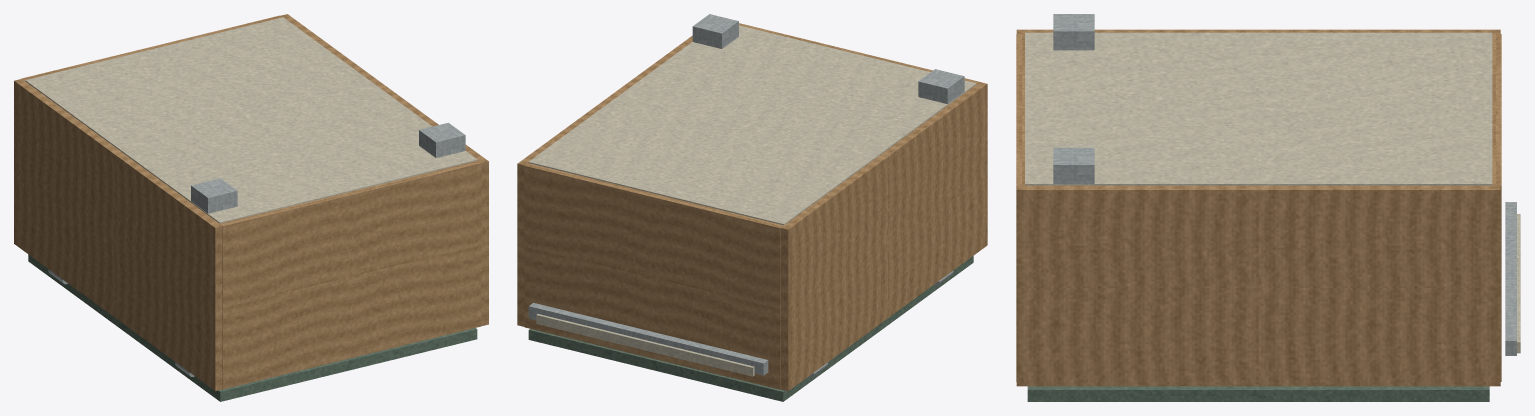
File: PROJECT_Z_Kitchen_UpperStorage600_Prefab.glb
3 renders of one model, left to right at view 1: azimuth 30°, elevation 25°; view 2: azimuth 150°, elevation 25°; view 3: azimuth 270°, elevation 25°, orthographic. The views are drawn at different scales.
Parts seen in each view (by area): view 1: UPPER_STORAGE_600_UpperBack, UPPER_STORAGE_600_UpperTop, UPPER_STORAGE_600_UpperSide_L, UPPER_STORAGE_600_Single_DoorLeaf, UPPER_STORAGE_600_UpperSide_R, UPPER_STORAGE_600_WallMountBracket_L, UPPER_STORAGE_600_WallMountBracket_R, UPPER_STORAGE_600_UpperBottom; view 2: UPPER_STORAGE_600_UpperBack, UPPER_STORAGE_600_UpperBottom, UPPER_STORAGE_600_UpperSide_L, UPPER_STORAGE_600_Single_DoorLeaf, UPPER_STORAGE_600_UnderCabinetAluminiumLight, UPPER_STORAGE_600_UpperSide_R, UPPER_STORAGE_600_UnderCabinetLEDLens, UPPER_STORAGE_600_WallMountBracket_L, UPPER_STORAGE_600_WallMountBracket_R, UPPER_STORAGE_600_UpperTop; view 3: UPPER_STORAGE_600_UpperSide_R, UPPER_STORAGE_600_UpperBack, UPPER_STORAGE_600_Single_DoorLeaf, UPPER_STORAGE_600_UpperBottom, UPPER_STORAGE_600_UnderCabinetAluminiumLight, UPPER_STORAGE_600_UpperSide_L, UPPER_STORAGE_600_UpperTop, UPPER_STORAGE_600_WallMountBracket_L, UPPER_STORAGE_600_WallMountBracket_R, UPPER_STORAGE_600_UnderCabinetLEDLens.
Part boxes in pixels (left/top/right/bottom): UPPER_STORAGE_600_UpperBack: left=25, top=17, right=477, bottom=223; UPPER_STORAGE_600_UpperTop: left=220, top=160, right=481, bottom=389; UPPER_STORAGE_600_UpperSide_L: left=14, top=79, right=222, bottom=390; UPPER_STORAGE_600_Single_DoorLeaf: left=28, top=254, right=477, bottom=401; UPPER_STORAGE_600_UpperSide_R: left=280, top=14, right=488, bottom=325; UPPER_STORAGE_600_WallMountBracket_L: left=191, top=178, right=237, bottom=213; UPPER_STORAGE_600_WallMountBracket_R: left=419, top=122, right=465, bottom=157; UPPER_STORAGE_600_UpperBottom: left=21, top=15, right=280, bottom=80; UPPER_STORAGE_600_UpperBack: left=528, top=25, right=976, bottom=225; UPPER_STORAGE_600_UpperBottom: left=524, top=163, right=784, bottom=389; UPPER_STORAGE_600_UpperSide_L: left=781, top=82, right=987, bottom=391; UPPER_STORAGE_600_Single_DoorLeaf: left=528, top=256, right=973, bottom=401; UPPER_STORAGE_600_UnderCabinetAluminiumLight: left=528, top=303, right=768, bottom=375; UPPER_STORAGE_600_UpperSide_R: left=517, top=35, right=692, bottom=326; UPPER_STORAGE_600_UnderCabinetLEDLens: left=536, top=314, right=754, bottom=376; UPPER_STORAGE_600_WallMountBracket_L: left=918, top=69, right=964, bottom=103; UPPER_STORAGE_600_WallMountBracket_R: left=692, top=14, right=738, bottom=48; UPPER_STORAGE_600_UpperTop: left=739, top=23, right=979, bottom=83; UPPER_STORAGE_600_UpperSide_R: left=1016, top=185, right=1500, bottom=386; UPPER_STORAGE_600_UpperBack: left=1025, top=32, right=1492, bottom=185; UPPER_STORAGE_600_Single_DoorLeaf: left=1027, top=386, right=1489, bottom=401; UPPER_STORAGE_600_UpperBottom: left=1492, top=34, right=1501, bottom=381; UPPER_STORAGE_600_UnderCabinetAluminiumLight: left=1505, top=202, right=1516, bottom=355; UPPER_STORAGE_600_UpperSide_L: left=1016, top=29, right=1500, bottom=34; UPPER_STORAGE_600_UpperTop: left=1016, top=34, right=1024, bottom=381; UPPER_STORAGE_600_WallMountBracket_L: left=1053, top=14, right=1094, bottom=50; UPPER_STORAGE_600_WallMountBracket_R: left=1053, top=147, right=1094, bottom=183; UPPER_STORAGE_600_UnderCabinetLEDLens: left=1517, top=214, right=1520, bottom=353.
Bounding box in the file's own units: 0.6 × 0.4695 × 0.797.
5 materials, 5 textured.
